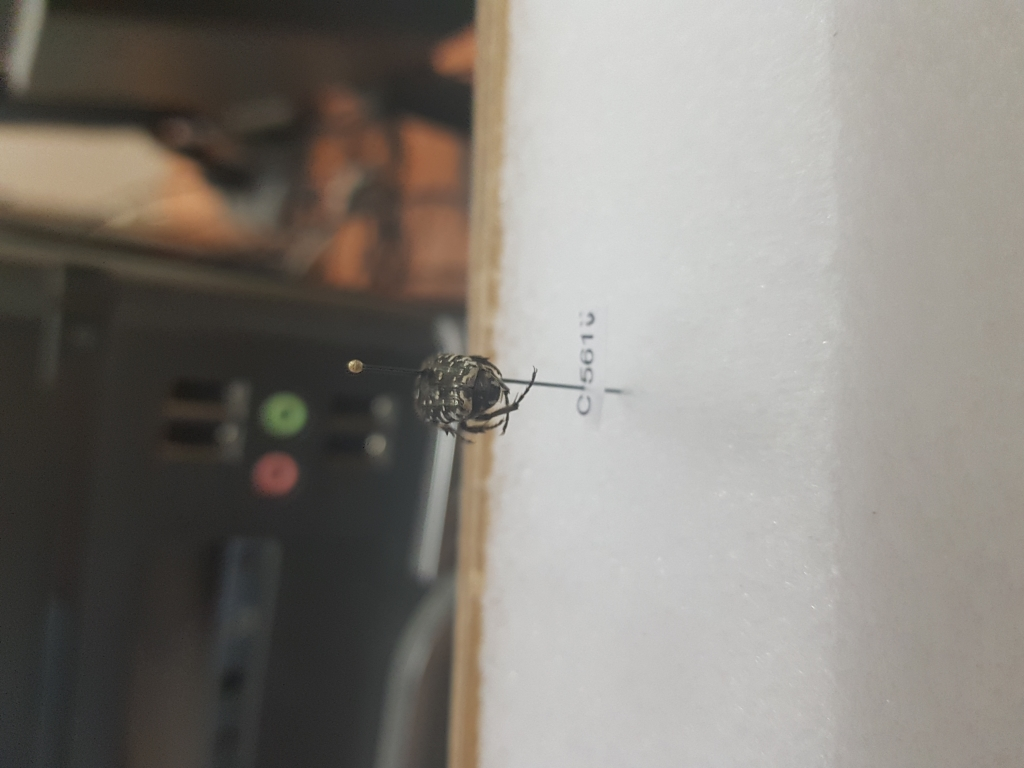Oxythyrea_funesta: (409, 351, 543, 438)
